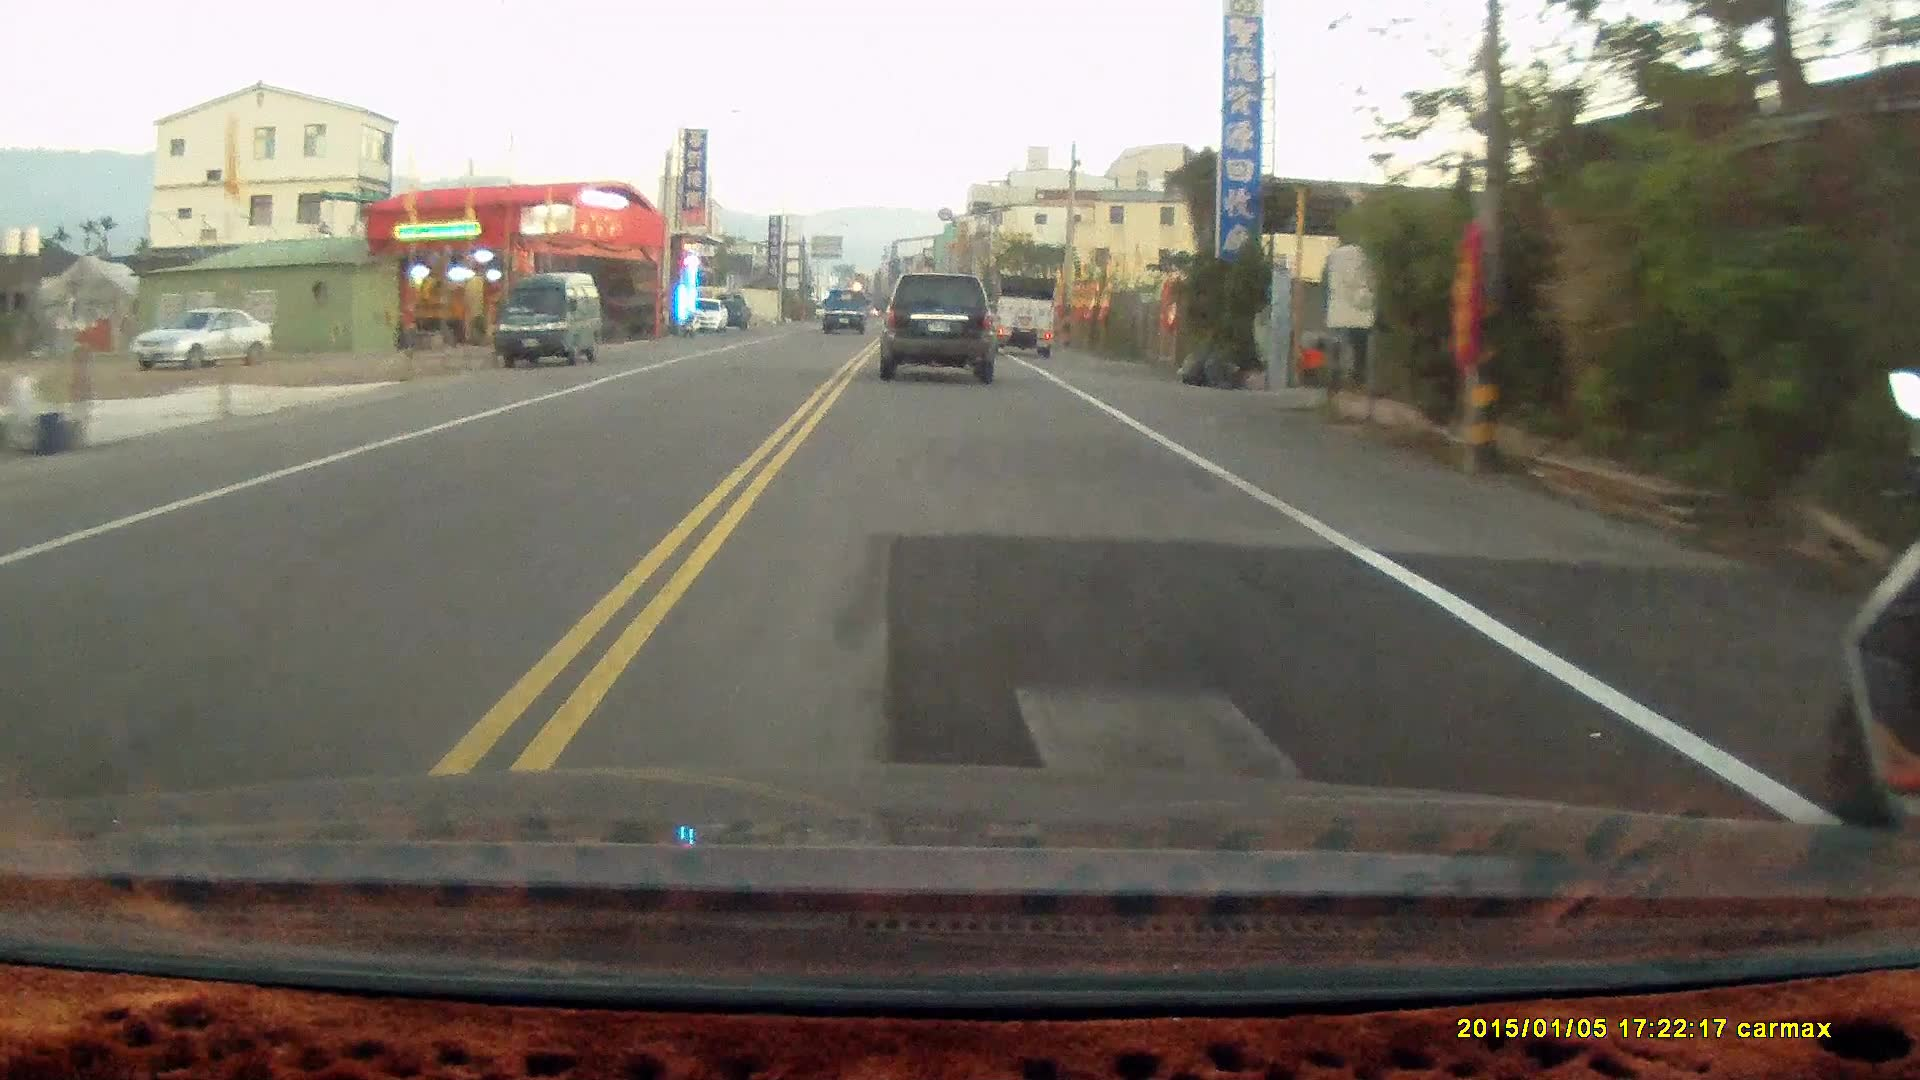rider: (1816, 367, 1920, 826)
vehicle: (869, 266, 1006, 386), (498, 272, 602, 372), (130, 303, 276, 373), (982, 275, 1058, 360), (821, 289, 872, 336)
